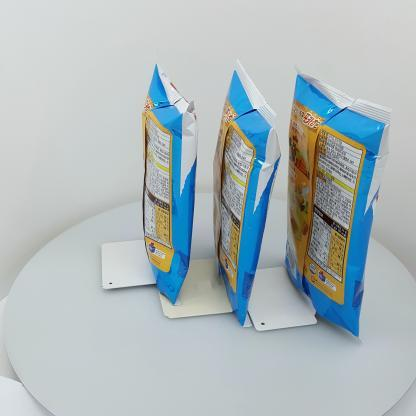Plastic Packaging: (285, 68, 391, 336), (212, 60, 284, 324), (134, 59, 204, 309)
